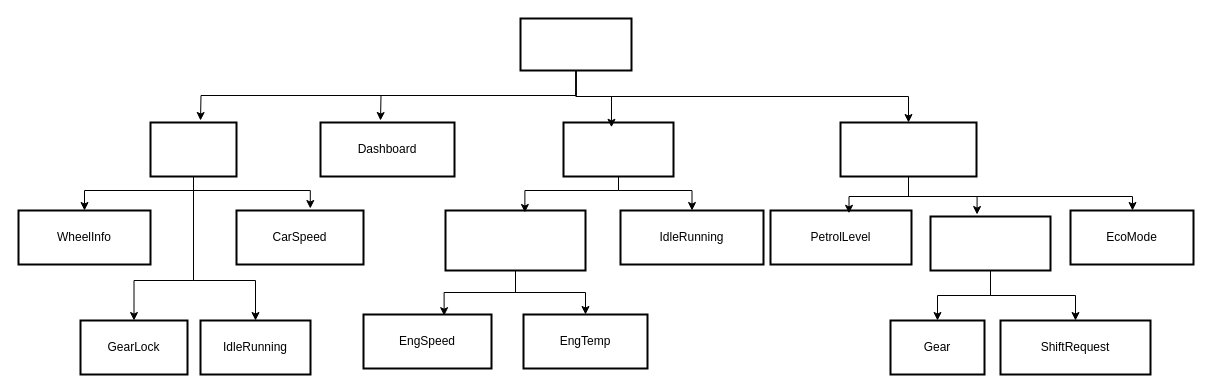
Some shapes in this 1211 by 392 pixel diagram are drawn without their labels. Here are the shapes that lost their labels. From the top down, the centre of each, then its label:
At (x=575, y=44): "MotBus".
At (x=193, y=149): "ABS".
At (x=618, y=149): "EngineControl".
At (x=908, y=149): "EngineTest".
At (x=515, y=240): "EngineData".
At (x=990, y=243): "GearBox".
